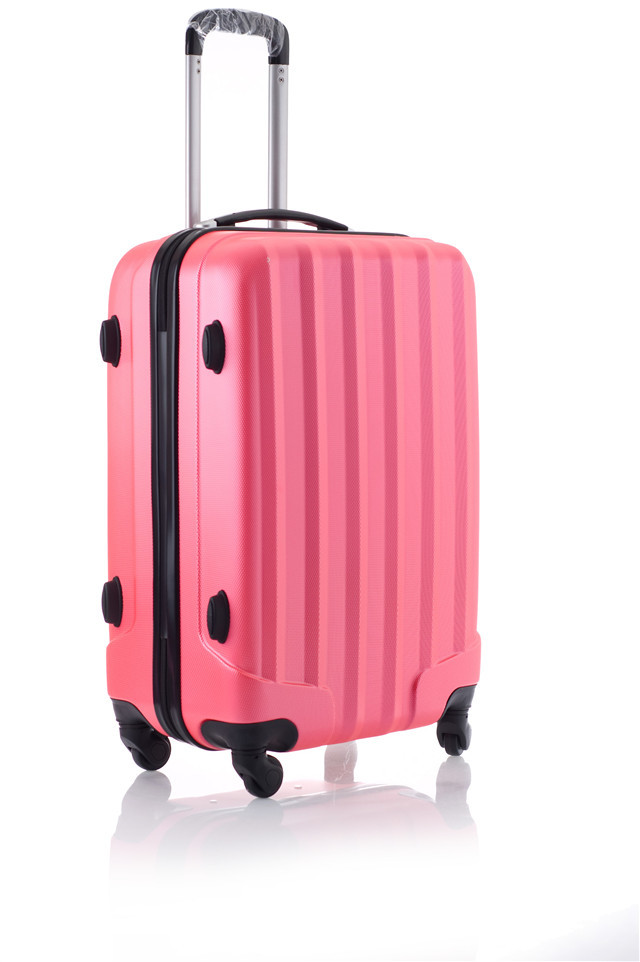luggage: (100, 8, 485, 800)
